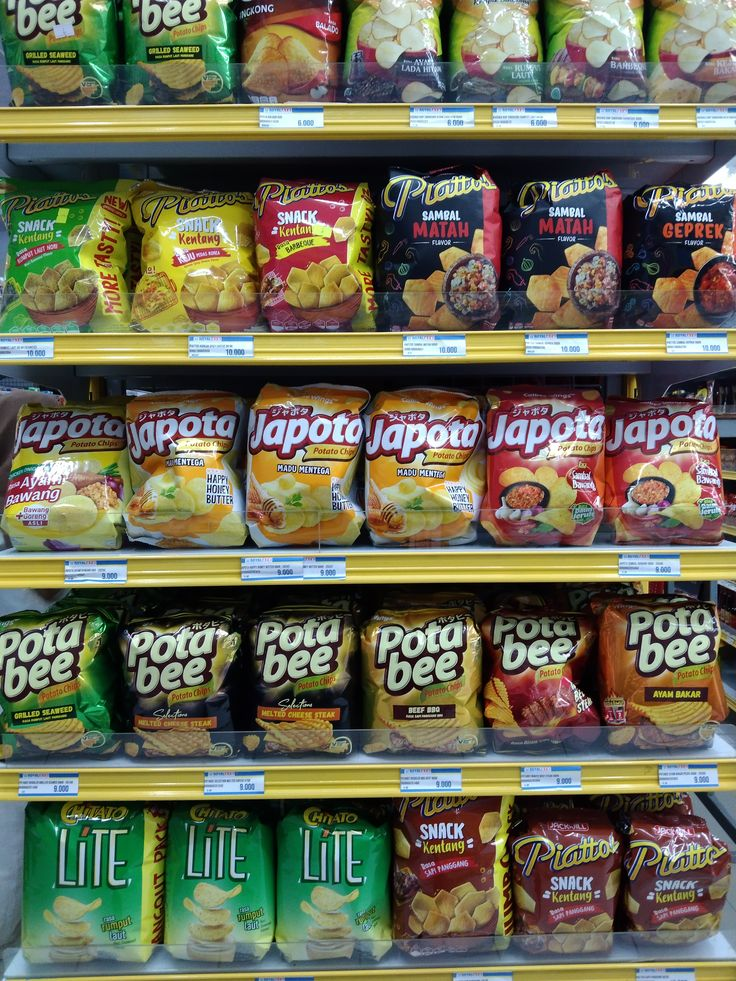Japota: (245, 386, 369, 510), (486, 381, 610, 505), (116, 371, 240, 495)
Lite: (152, 782, 276, 906), (276, 794, 400, 918)
Pota Bee: (238, 589, 362, 713), (608, 592, 732, 716), (107, 599, 231, 723)
Sambal Matah: (371, 164, 495, 288), (505, 167, 629, 291)
